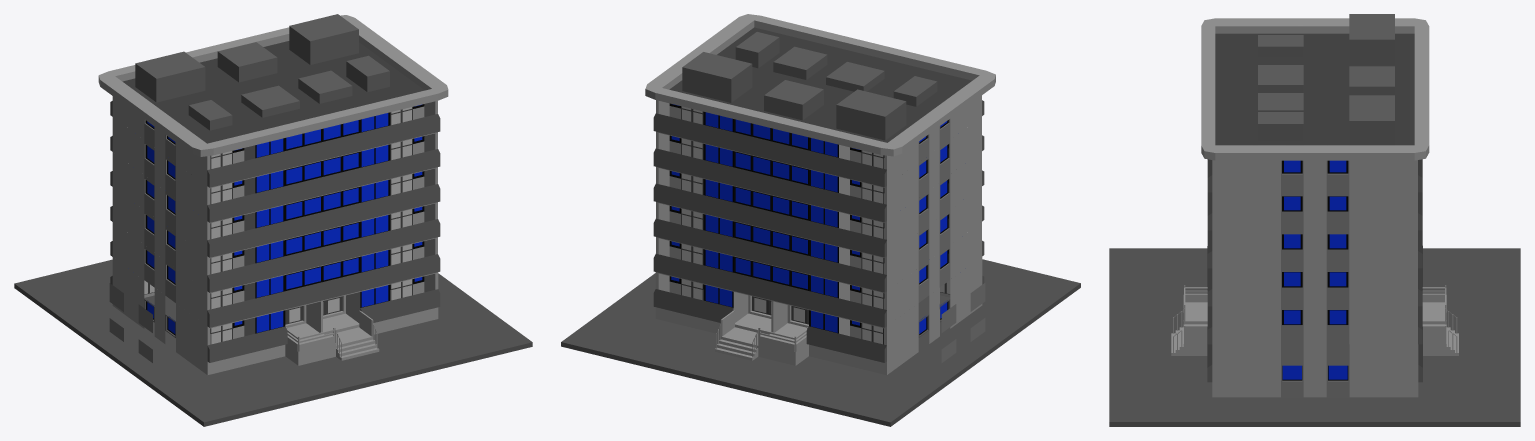
Rendered from Immeuble3_3.glb.
3 views of the same model, side by side, from view 1: azimuth 30°, elevation 25°; view 2: azimuth 150°, elevation 25°; view 3: azimuth 270°, elevation 25° (orthographic). The views are drawn at different scales.
Visible parts, largest first — view 1: Immeuble3_3; view 2: Immeuble3_3; view 3: Immeuble3_3.
Boxes of the visible parts, left/top/right/bottom form: Immeuble3_3: left=14, top=14, right=532, bottom=426; Immeuble3_3: left=561, top=14, right=1080, bottom=426; Immeuble3_3: left=1109, top=14, right=1520, bottom=426.
Size of the model in its own units: 25 by 18.29 by 25.
